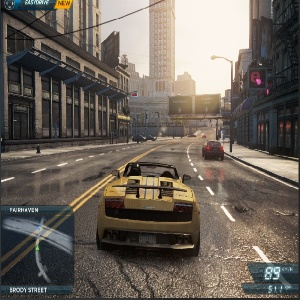ad: (249, 68, 265, 88)
lamp post: (212, 54, 237, 153)
road sign: (169, 97, 221, 115)
vehicle: (201, 136, 225, 159), (142, 133, 157, 141), (132, 135, 148, 141)
